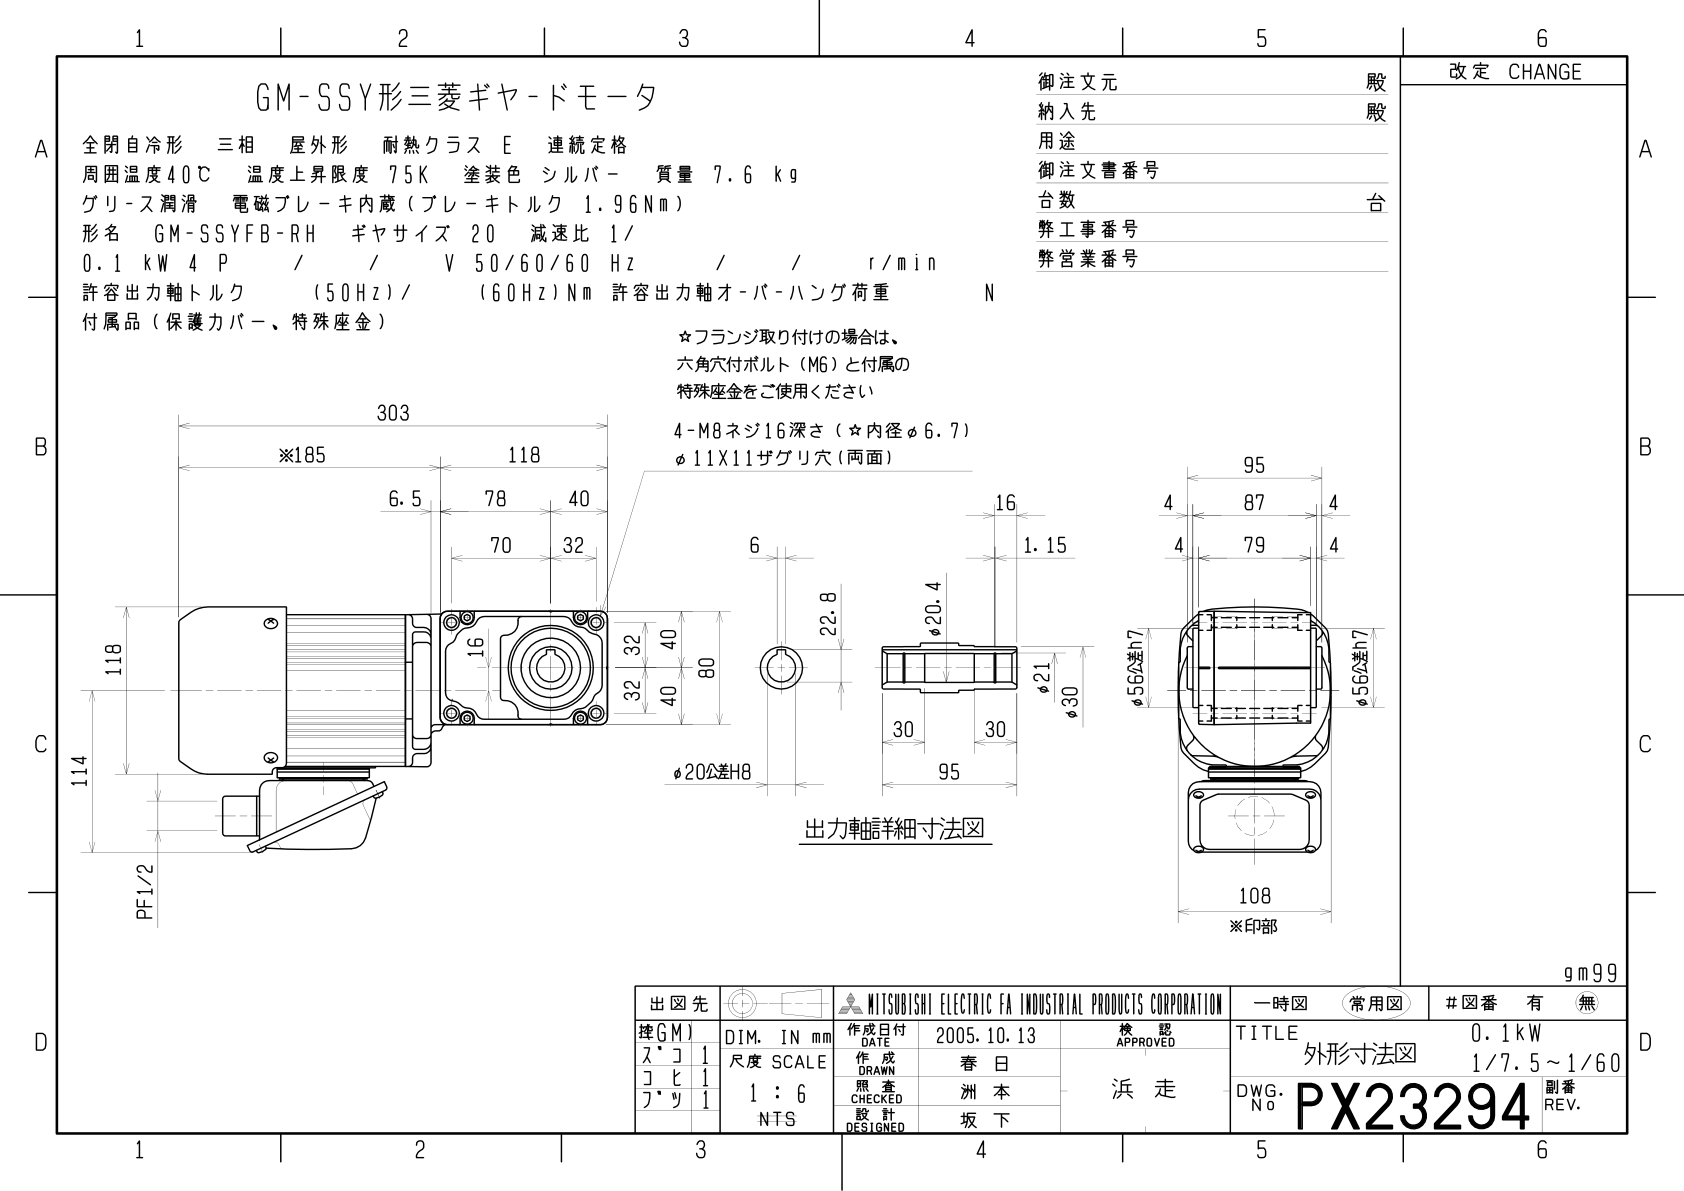GM_SSY_屋外_三相: (9, 18, 1684, 1191)
